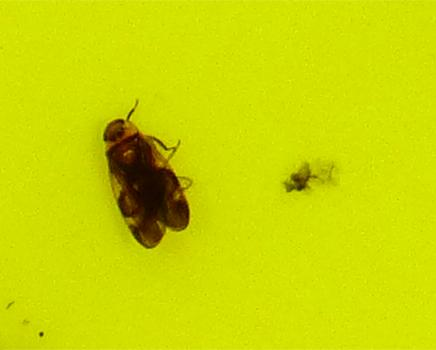Brachycera: (281, 160, 336, 195)
Hemiptera: (100, 100, 192, 250)
